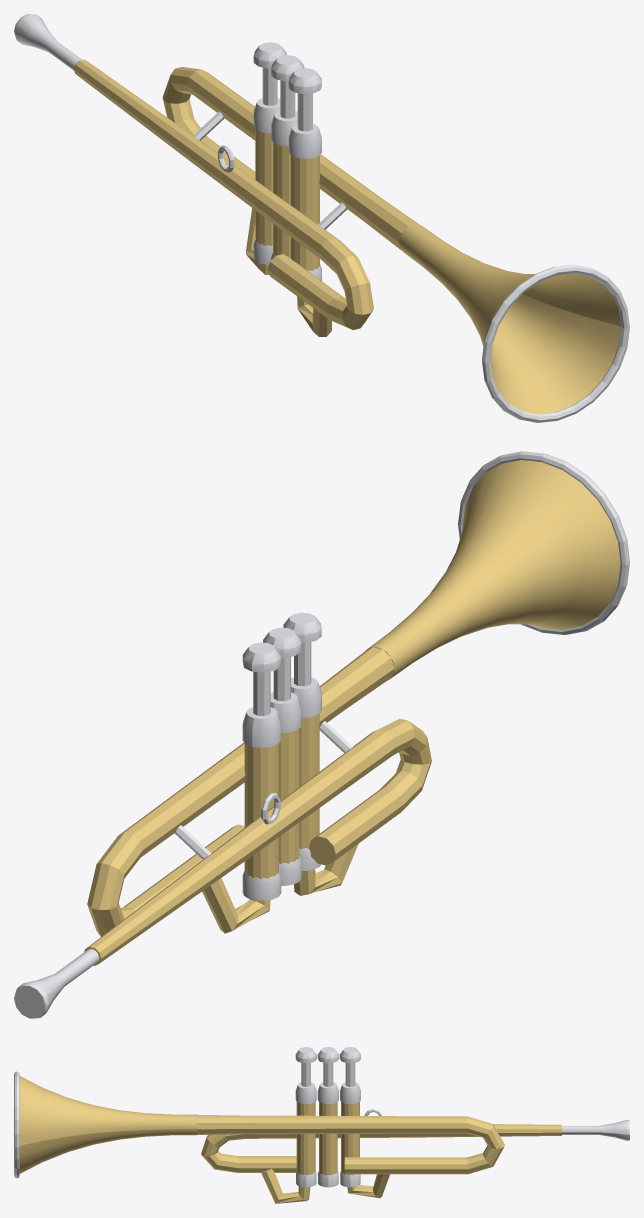
The model's file is trumpet-v2.glb.
3 views of the same model, one above another, from view 1: azimuth 30°, elevation 25°; view 2: azimuth 150°, elevation 25°; view 3: azimuth 270°, elevation 25° (orthographic). The views are drawn at different scales.
Visible parts, largest first — view 1: trumpet; view 2: trumpet; view 3: trumpet.
Part boxes in pixels (<box>): trumpet: <box>14,14,629,422</box>; trumpet: <box>14,451,629,1018</box>; trumpet: <box>14,1047,629,1203</box>.
Size of the model in its own units: 0.131 by 0.2084 by 0.7515.
